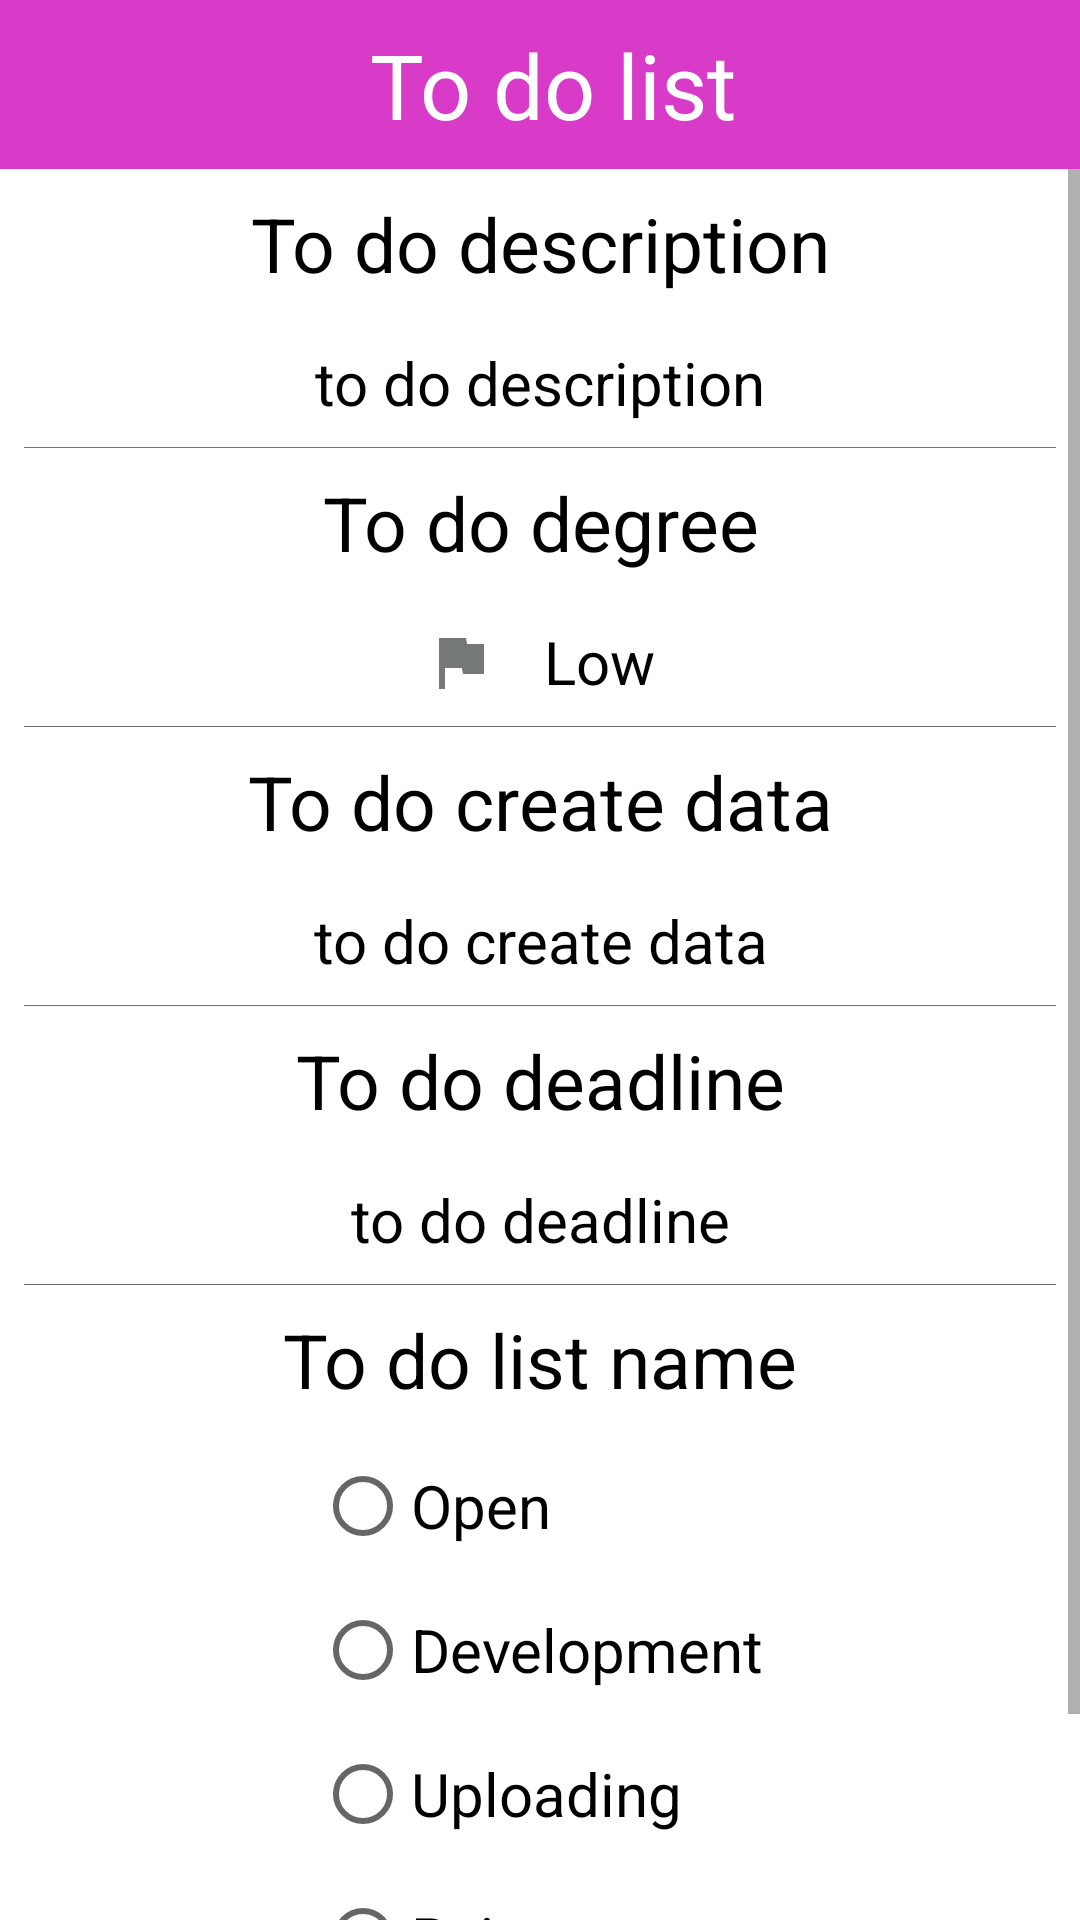

Point at icon controls on the screen. Image size 1080px x 1920px, points as point (x, y).
flag: point (461, 663)
